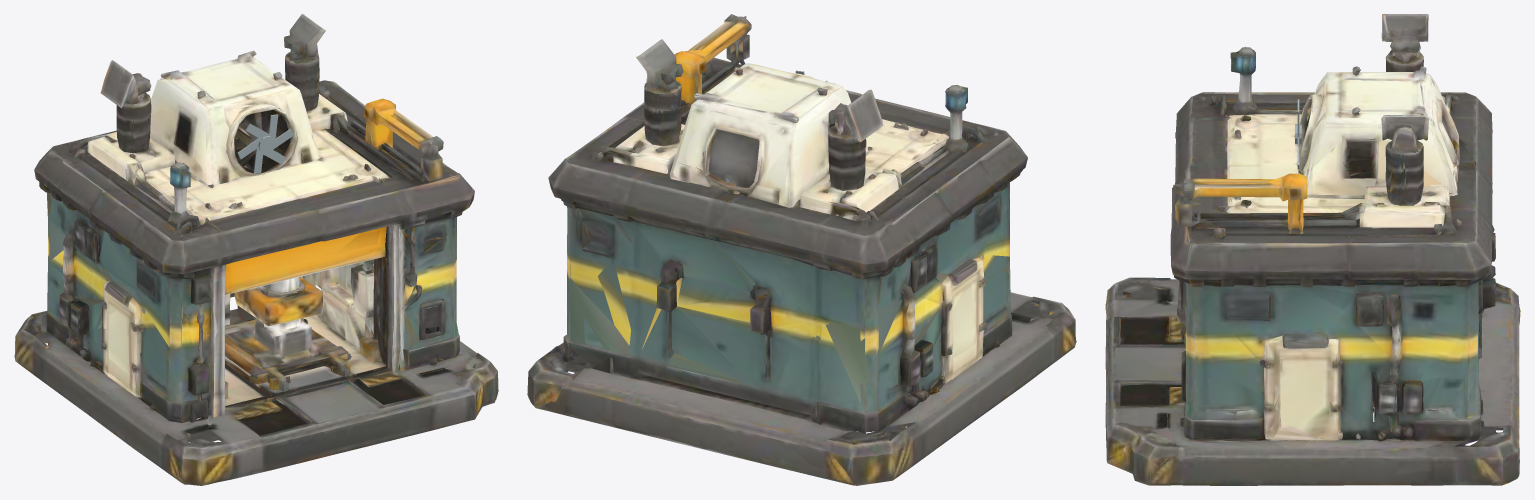
The model's file is block.glb.
3 views of the same model, side by side, from view 1: azimuth 30°, elevation 25°; view 2: azimuth 150°, elevation 25°; view 3: azimuth 270°, elevation 25° (orthographic). The views are drawn at different scales.
Parts seen in each view (by area): view 1: SM_LOD, SM_Body, SM_Gantry, SM_Tray, SM_Press, SM_Shutter, SM_Kit_fan_0, SM_Flap_Left, SM_Flap_Right; view 2: SM_LOD, SM_Body, SM_Gantry, SM_Flap_Left, SM_Flap_Right; view 3: SM_LOD, SM_Body, SM_Gantry, SM_Side_Door, SM_Flap_Left, SM_Flap_Right.
Part boxes in pixels (bbox=[...]): SM_LOD: bbox=[15, 14, 498, 485]; SM_Body: bbox=[14, 50, 497, 485]; SM_Gantry: bbox=[358, 98, 443, 182]; SM_Tray: bbox=[225, 325, 350, 391]; SM_Press: bbox=[234, 277, 322, 325]; SM_Shutter: bbox=[225, 224, 395, 281]; SM_Kit_fan_0: bbox=[237, 114, 293, 173]; SM_Flap_Left: bbox=[101, 60, 151, 106]; SM_Flap_Right: bbox=[284, 14, 325, 59]; SM_LOD: bbox=[527, 16, 1075, 485]; SM_Body: bbox=[527, 57, 1076, 485]; SM_Gantry: bbox=[674, 14, 751, 106]; SM_Flap_Left: bbox=[828, 89, 882, 141]; SM_Flap_Right: bbox=[637, 39, 683, 87]; SM_LOD: bbox=[1106, 14, 1519, 485]; SM_Body: bbox=[1105, 47, 1520, 485]; SM_Gantry: bbox=[1173, 173, 1316, 230]; SM_Side_Door: bbox=[1261, 338, 1338, 440]; SM_Flap_Left: bbox=[1381, 14, 1428, 60]; SM_Flap_Right: bbox=[1381, 115, 1429, 149].
Bounding box in the file's own units: 0.9993 × 0.8896 × 0.9989.
6 materials, 2 textured.
